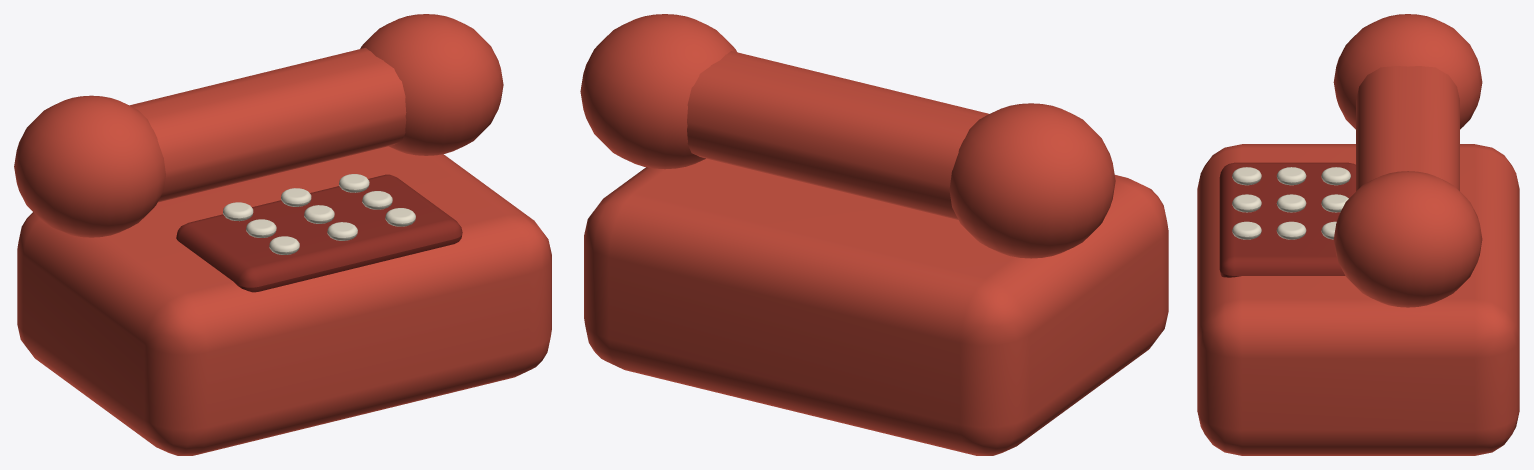
The model's file is redphone.glb.
The picture shows the model from 3 angles, left to right: view 1: azimuth 30°, elevation 25°; view 2: azimuth 150°, elevation 25°; view 3: azimuth 270°, elevation 25°; orthographic projection. The views are drawn at different scales.
Parts seen in each view (by area): view 1: Phone Base, Phone Handset, Handset Bell L, Phone Button Bed, Handset Bell R; view 2: Phone Base, Phone Handset, Handset Bell L, Handset Bell R; view 3: Phone Base, Handset Bell R, Phone Handset, Phone Button Bed, Handset Bell L, Phone Button.001, Phone Button.002, Phone Button.004, Phone Button, Phone Button.005, Phone Button.003, Phone Button.006 (+1 smaller).
Boxes of the visible parts, x1=… form: Phone Base: x1=17, y1=146, x2=551, y2=455; Phone Handset: x1=130, y1=48, x2=406, y2=202; Handset Bell L: x1=14, y1=95, x2=165, y2=237; Phone Button Bed: x1=176, y1=174, x2=462, y2=292; Handset Bell R: x1=360, y1=14, x2=503, y2=155; Phone Base: x1=584, y1=158, x2=1168, y2=455; Phone Handset: x1=687, y1=51, x2=988, y2=219; Handset Bell L: x1=949, y1=103, x2=1115, y2=258; Handset Bell R: x1=580, y1=14, x2=736, y2=169; Phone Base: x1=1197, y1=144, x2=1519, y2=455; Handset Bell R: x1=1333, y1=171, x2=1482, y2=307; Phone Handset: x1=1356, y1=66, x2=1459, y2=191; Phone Button Bed: x1=1219, y1=162, x2=1355, y2=277; Handset Bell L: x1=1333, y1=14, x2=1482, y2=129; Phone Button.001: x1=1232, y1=194, x2=1261, y2=212; Phone Button.002: x1=1232, y1=221, x2=1261, y2=239; Phone Button.004: x1=1276, y1=194, x2=1306, y2=212; Phone Button: x1=1232, y1=167, x2=1261, y2=185; Phone Button.005: x1=1276, y1=221, x2=1306, y2=239; Phone Button.003: x1=1276, y1=167, x2=1306, y2=185; Phone Button.006: x1=1321, y1=167, x2=1350, y2=185.
Size of the model in its own units: 0.21 by 0.123 by 0.13.
